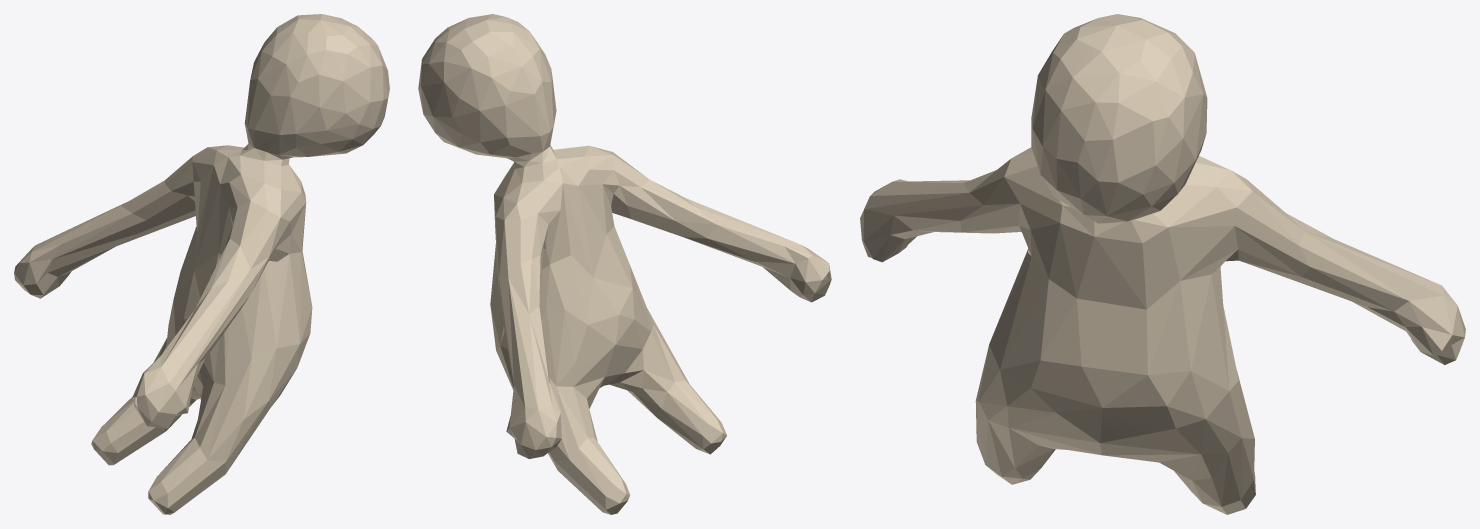
Rendered from Prometheus.fbx.
3 renders of one model, left to right at view 1: azimuth 30°, elevation 25°; view 2: azimuth 150°, elevation 25°; view 3: azimuth 270°, elevation 25°, orthographic. The views are drawn at different scales.
Parts seen in each view (by area): view 1: DarkWoodDecorationLargeWreckedShip1.001; view 2: DarkWoodDecorationLargeWreckedShip1.001; view 3: DarkWoodDecorationLargeWreckedShip1.001.
Boxes of the visible parts, x1,y1,x2,y2 form: DarkWoodDecorationLargeWreckedShip1.001: [14, 14, 389, 514]; DarkWoodDecorationLargeWreckedShip1.001: [418, 14, 831, 514]; DarkWoodDecorationLargeWreckedShip1.001: [860, 14, 1465, 514].
Bounding box in the file's own units: 427 × 538 × 489.
